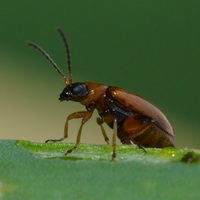insect: (28, 29, 173, 157)
